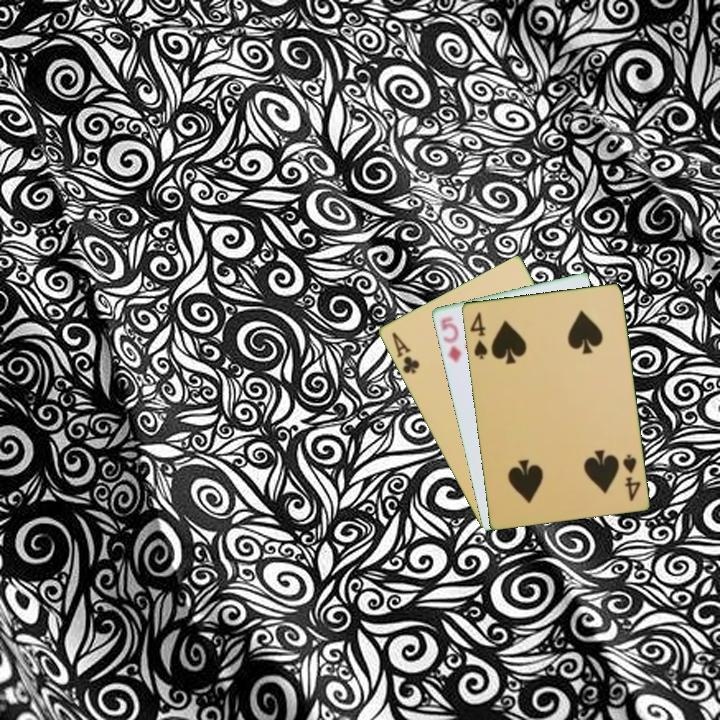4s: (466, 308, 490, 362), (619, 450, 643, 503)
5d: (436, 313, 463, 365)
Ac: (388, 328, 422, 376)
